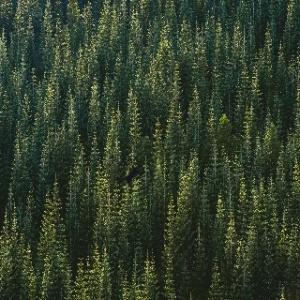drone: (101, 143, 161, 203)
